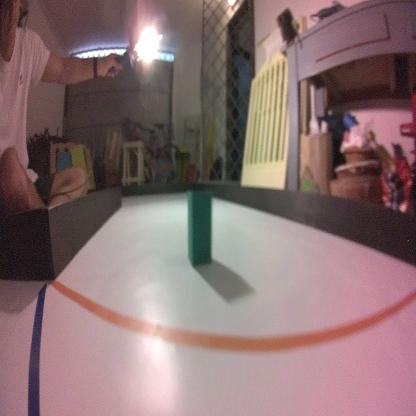green: (185, 186, 213, 269)
